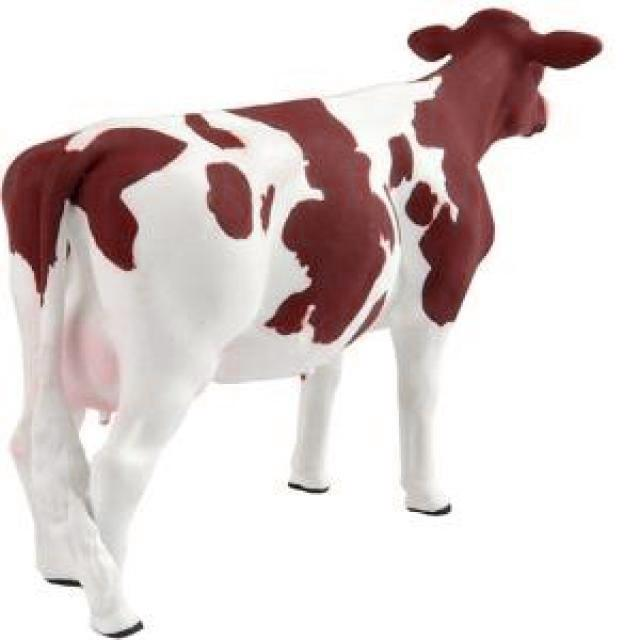cow: (2, 10, 601, 636)
